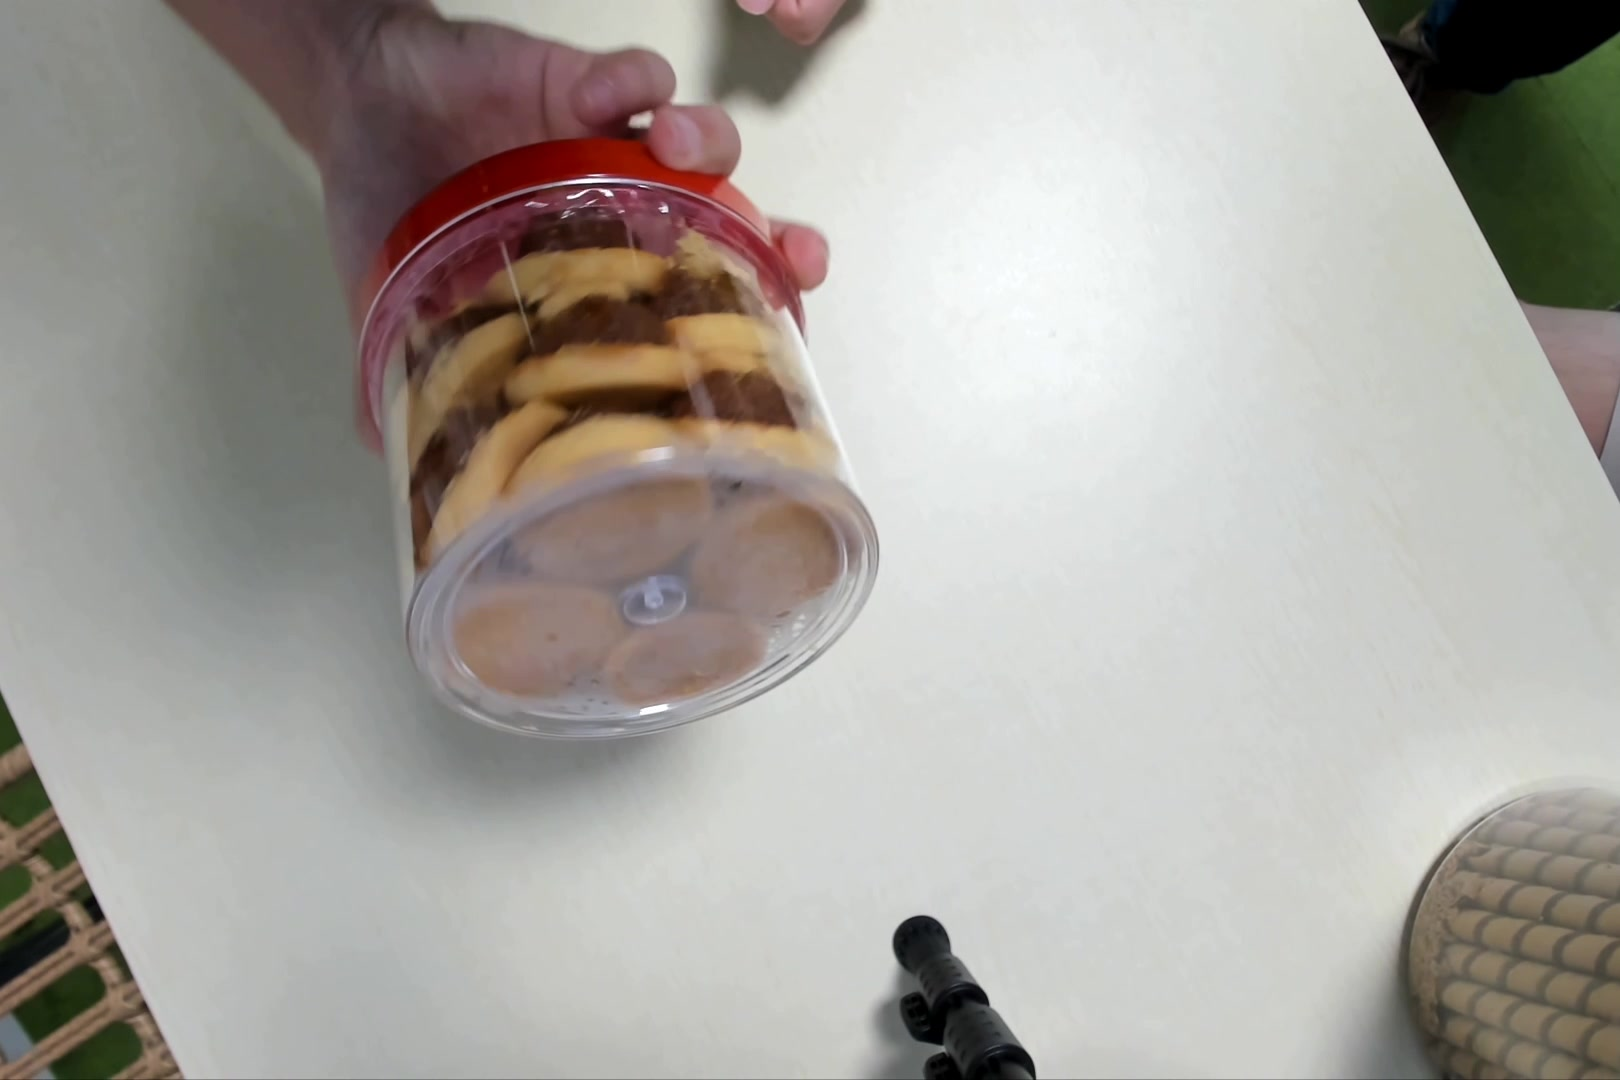BiscuitsCrackersCookies_400-499g_Halal_NonHealthy: (353, 133, 868, 746)
